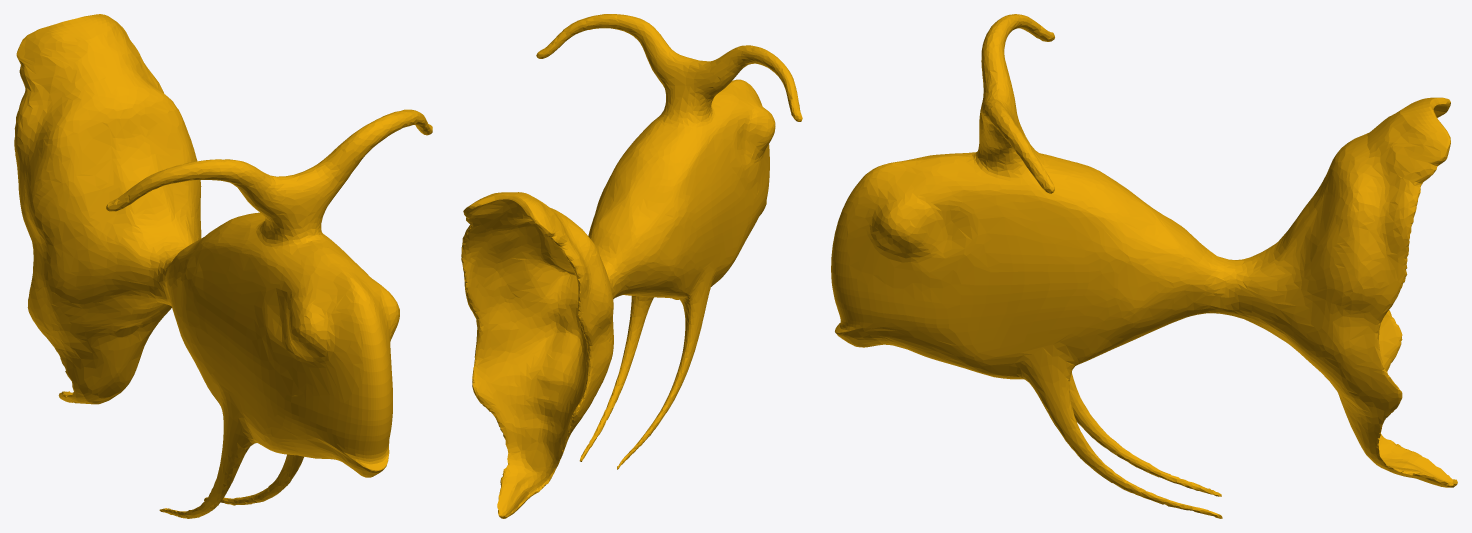
Rendered from HighDefFish.fbx.
The picture shows the model from 3 angles, left to right: view 1: azimuth 30°, elevation 25°; view 2: azimuth 150°, elevation 25°; view 3: azimuth 270°, elevation 25°; orthographic projection. The views are drawn at different scales.
Parts seen in each view (by area): view 1: Fish3:ZBrush_defualt_group; view 2: Fish3:ZBrush_defualt_group; view 3: Fish3:ZBrush_defualt_group.
Boxes of the visible parts, left/top/right/bottom form: Fish3:ZBrush_defualt_group: left=14, top=14, right=432, bottom=518; Fish3:ZBrush_defualt_group: left=461, top=14, right=802, bottom=518; Fish3:ZBrush_defualt_group: left=831, top=14, right=1457, bottom=518.
Size of the model in its own units: 2.39 by 3.15 by 4.04.
